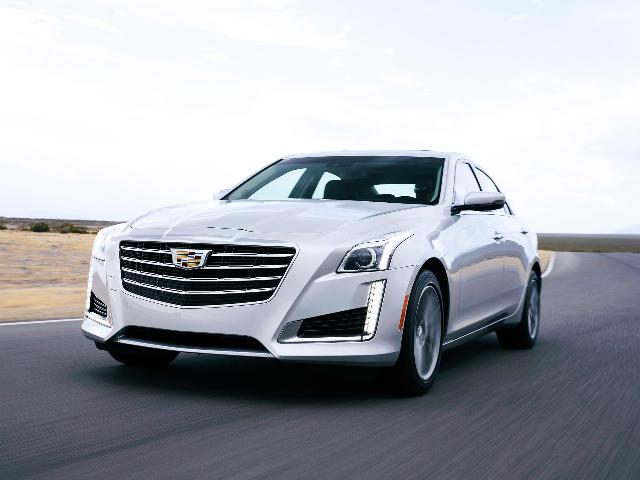cadillac: (81, 148, 543, 394)
